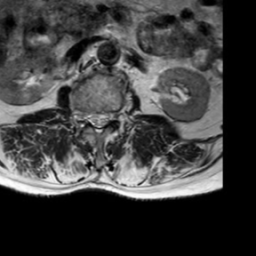CCS_normal: (94, 102, 102, 139)
LFS_normal: (109, 101, 117, 127)
LLS_normal: (102, 103, 109, 132)
RFS_normal: (79, 101, 87, 131)
RLS_normal: (87, 104, 95, 131)
